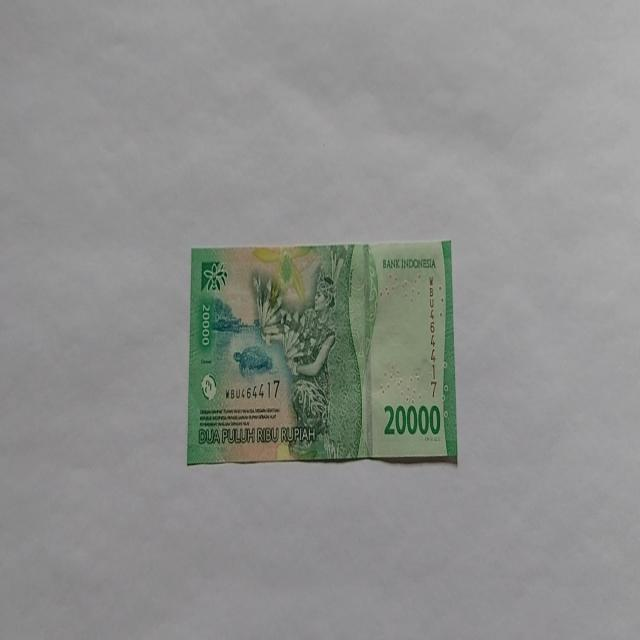dua puluh ribu rupiah: (186, 238, 458, 467), (250, 242, 378, 460)
